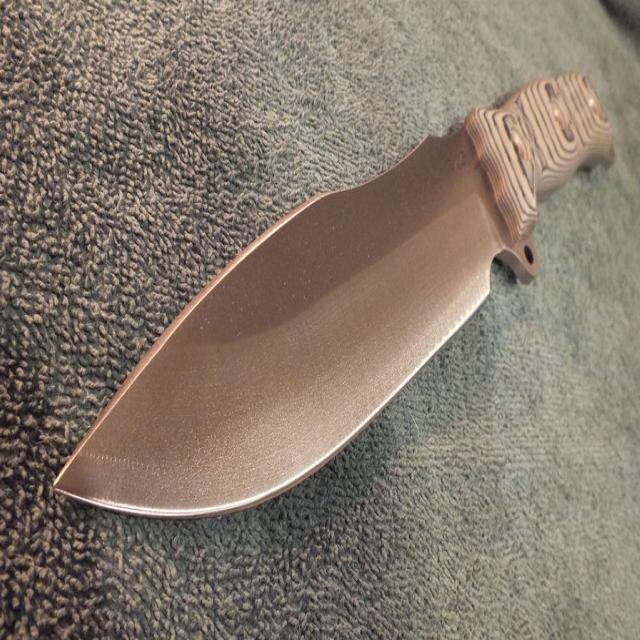Knife: (55, 72, 614, 518)
